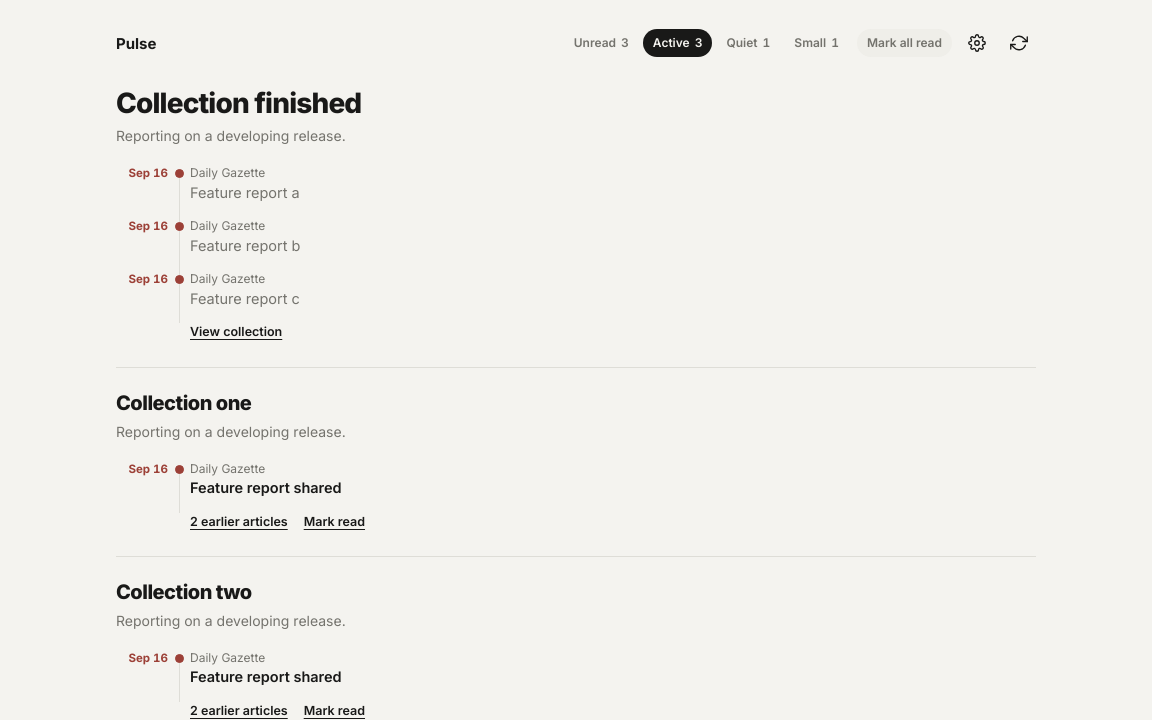
Pulse visit and update interface › confirms and deduplicates only unread articles in the active section
The width and height of the screenshot is (1152, 720).
Click the button "Mark all read".
click(904, 43)  # box [857,29,952,57]
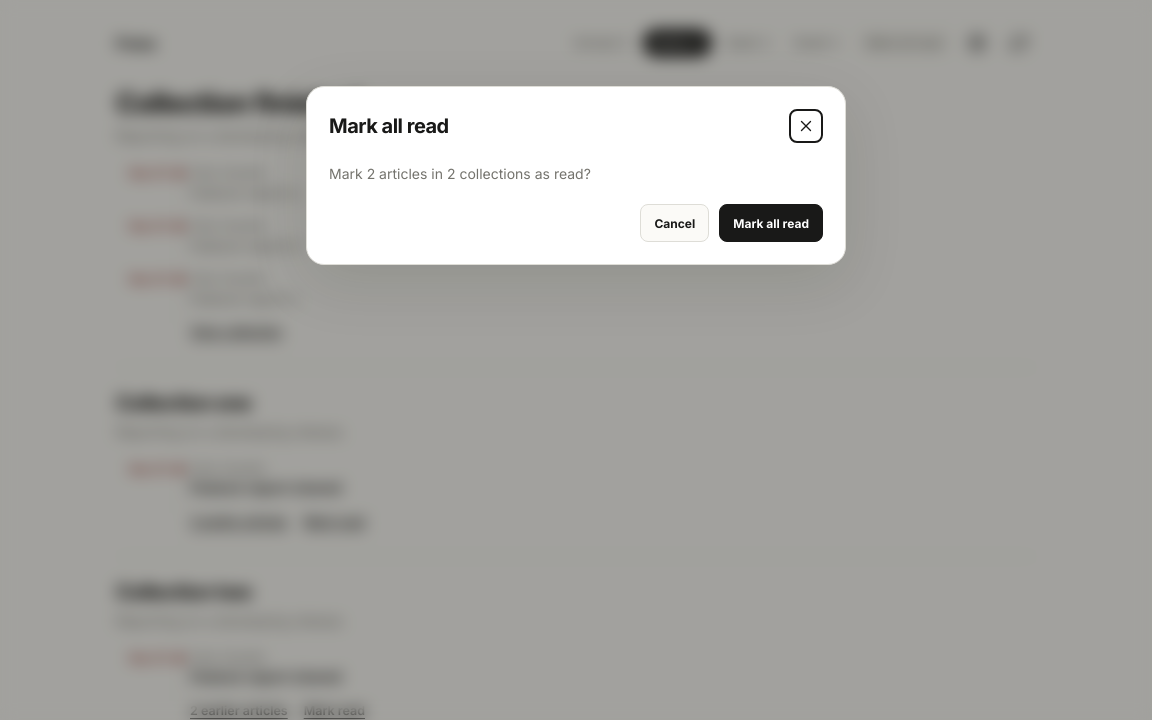
Check: the dialog shows "Mark 2 articles in 2 collections as read?", box [306,86,846,265]
Click the button "Cancel".
click(675, 223)  # box [640,204,709,242]
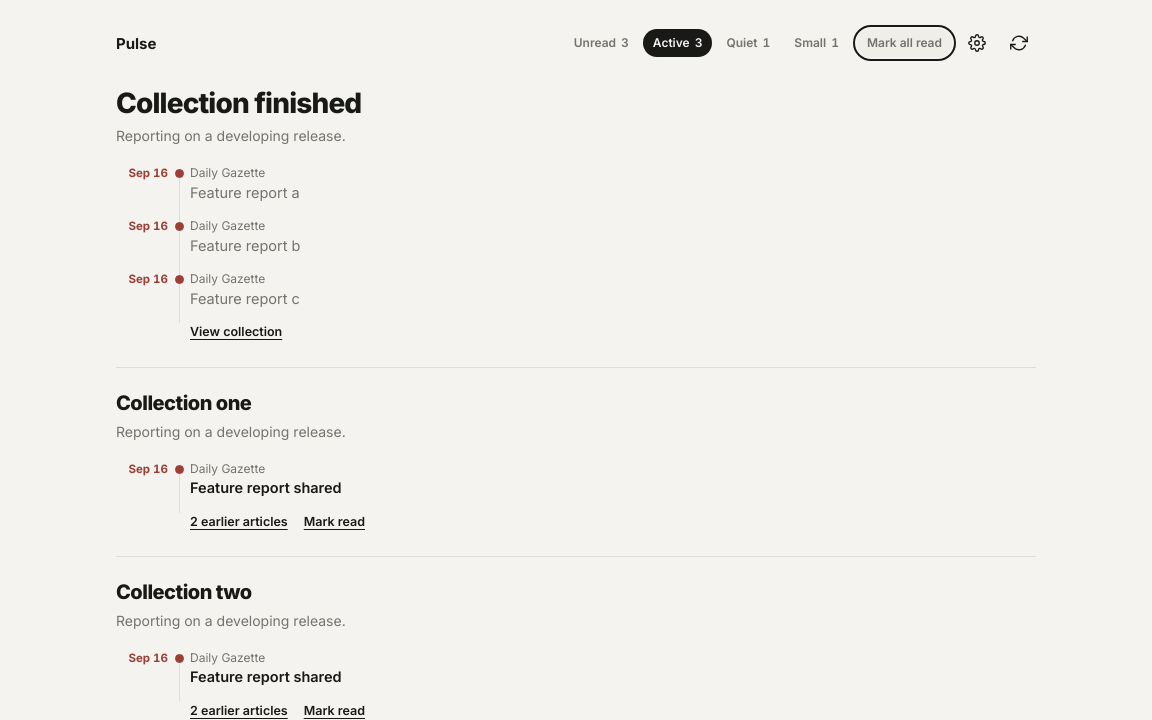
Check: the dialog is gone
Click the button "Mark all read".
click(904, 43)  # box [857,29,952,57]
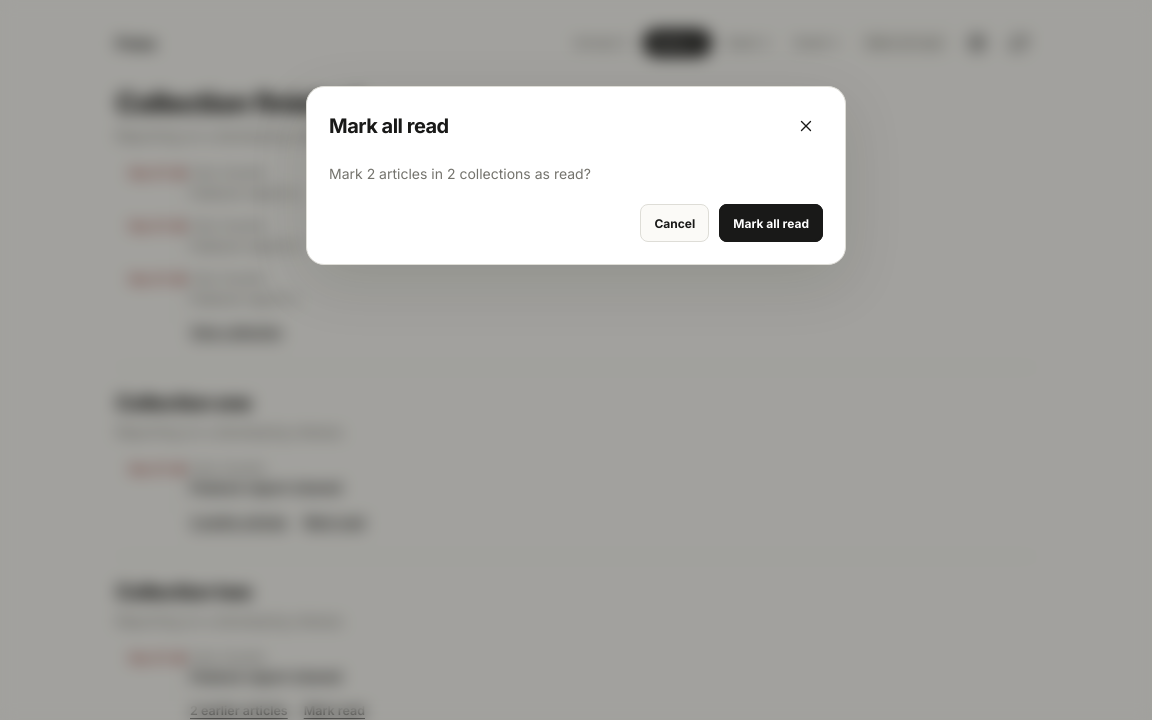
Click the button "Mark all read".
click(771, 223)  # box [719,204,823,242]
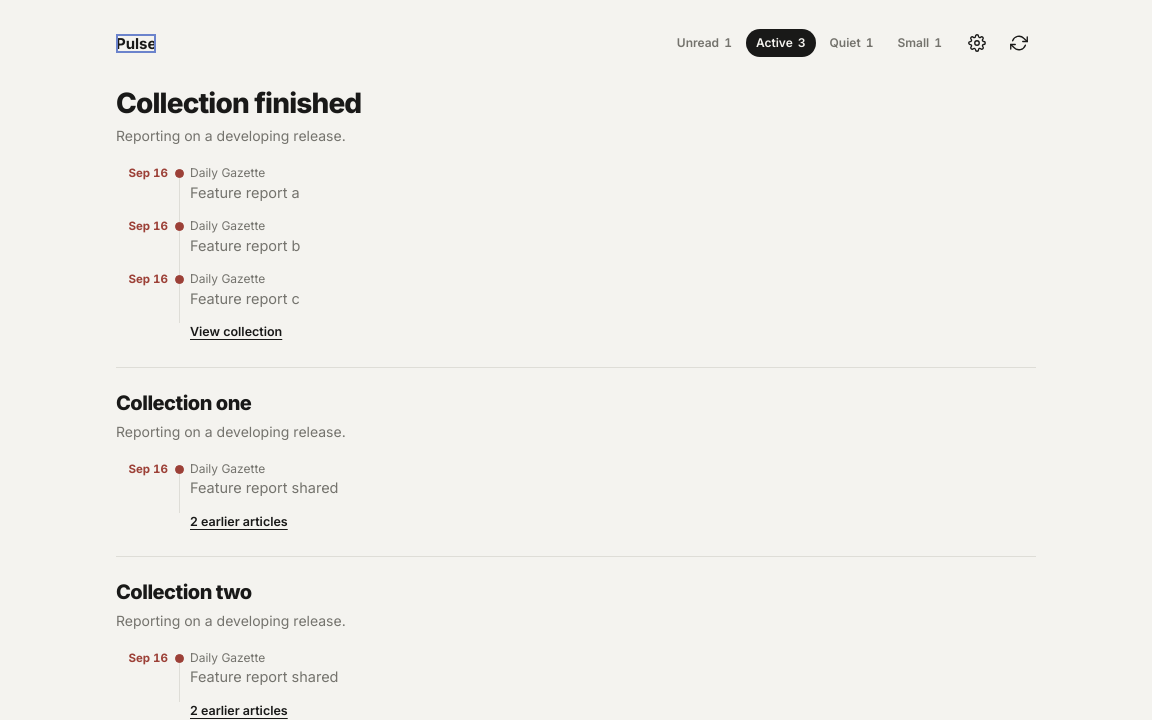
Check: the dialog is gone
Check: the button "Mark read" is gone
Click the button "Quiet 1".
click(851, 43)  # box [820,29,883,57]
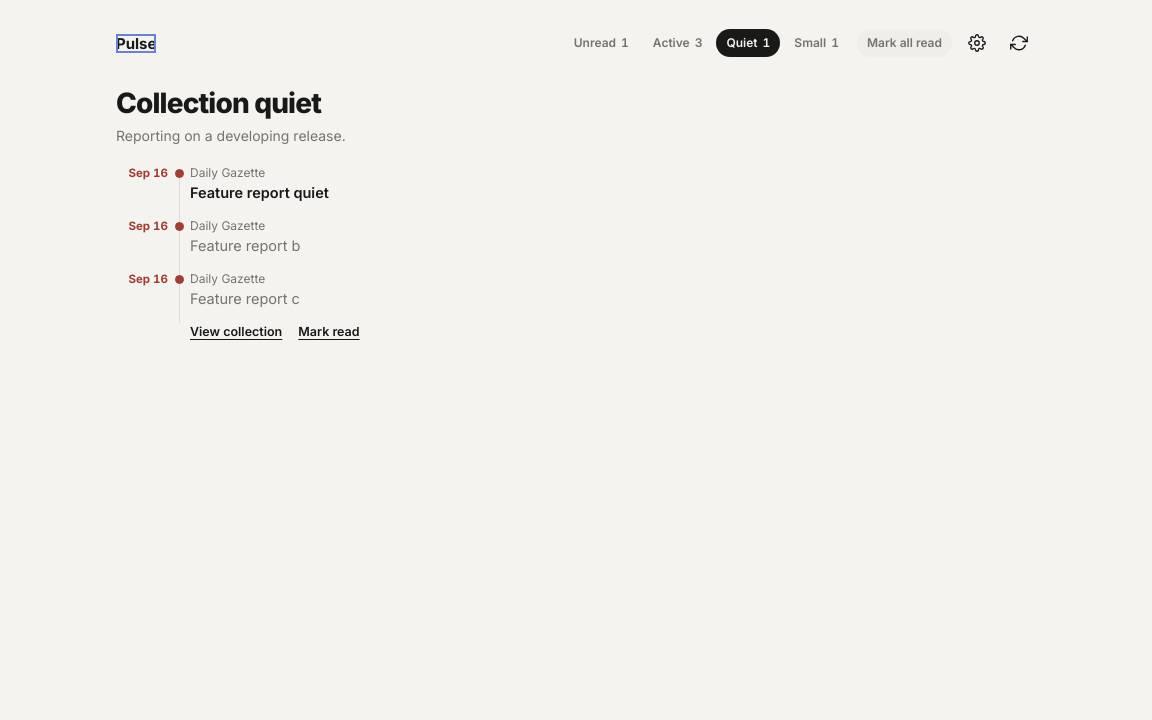
Check: the button "Mark all read" is shown, box [857,29,952,57]
